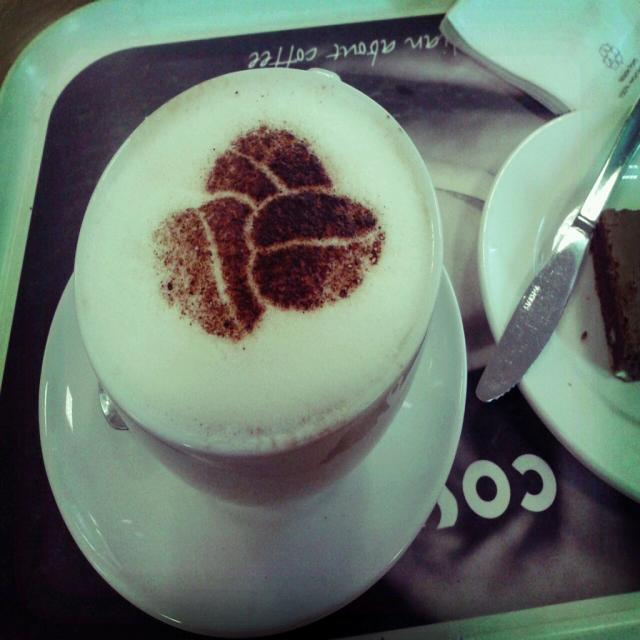Coffee: (67, 43, 460, 485)
